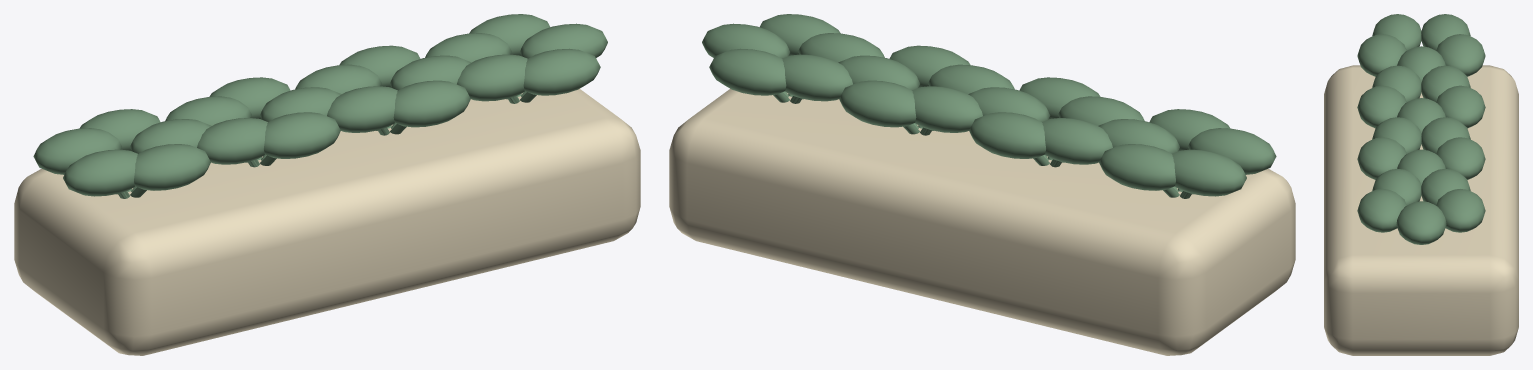
File: planter.glb
The picture shows the model from 3 angles, left to right: view 1: azimuth 30°, elevation 25°; view 2: azimuth 150°, elevation 25°; view 3: azimuth 270°, elevation 25°; orthographic projection. The views are drawn at different scales.
Parts seen in each view (by area): view 1: Body_cream, Body_leaf; view 2: Body_cream, Body_leaf; view 3: Body_cream, Body_leaf.
Part boxes in pixels (x1,y1,x2,y2): Body_cream: (14,88,640,355); Body_leaf: (33,14,607,198); Body_cream: (669,88,1295,355); Body_leaf: (702,14,1276,198); Body_cream: (1324,65,1518,355); Body_leaf: (1357,14,1485,244).
Bounding box in the file's own units: 3.07 × 0.945 × 1.15.
